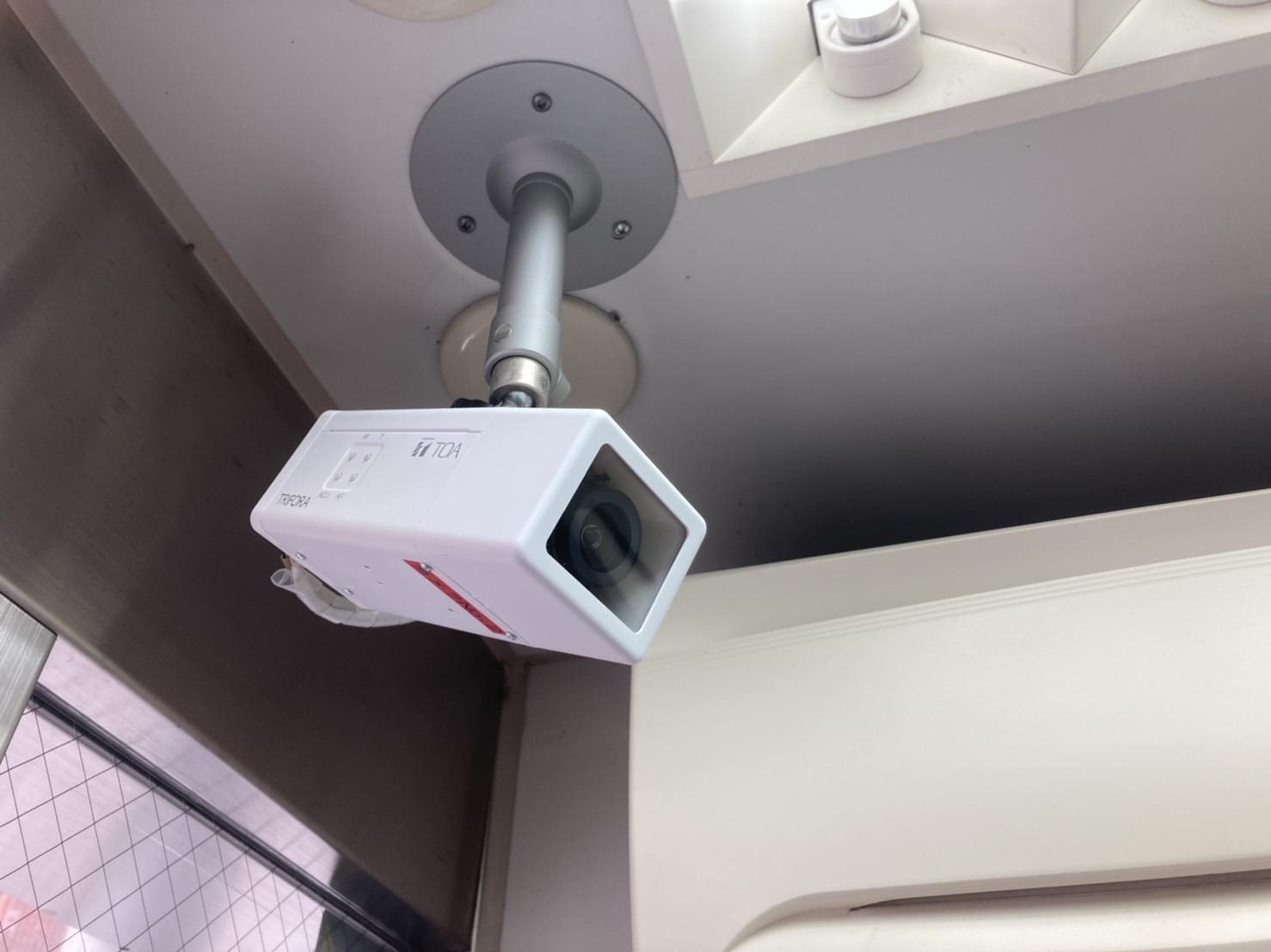tutu: (246, 395, 715, 662)
